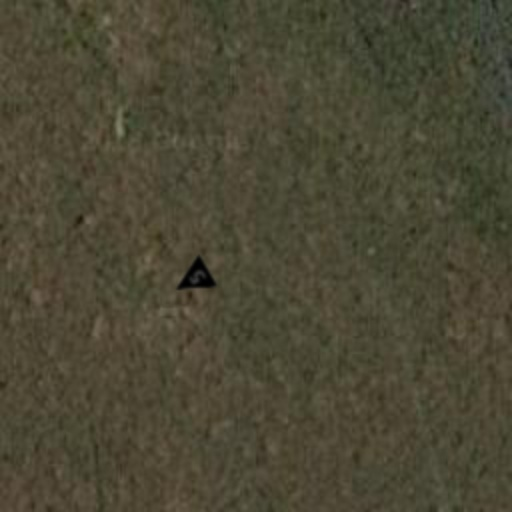triangle: (164, 252, 220, 308)
